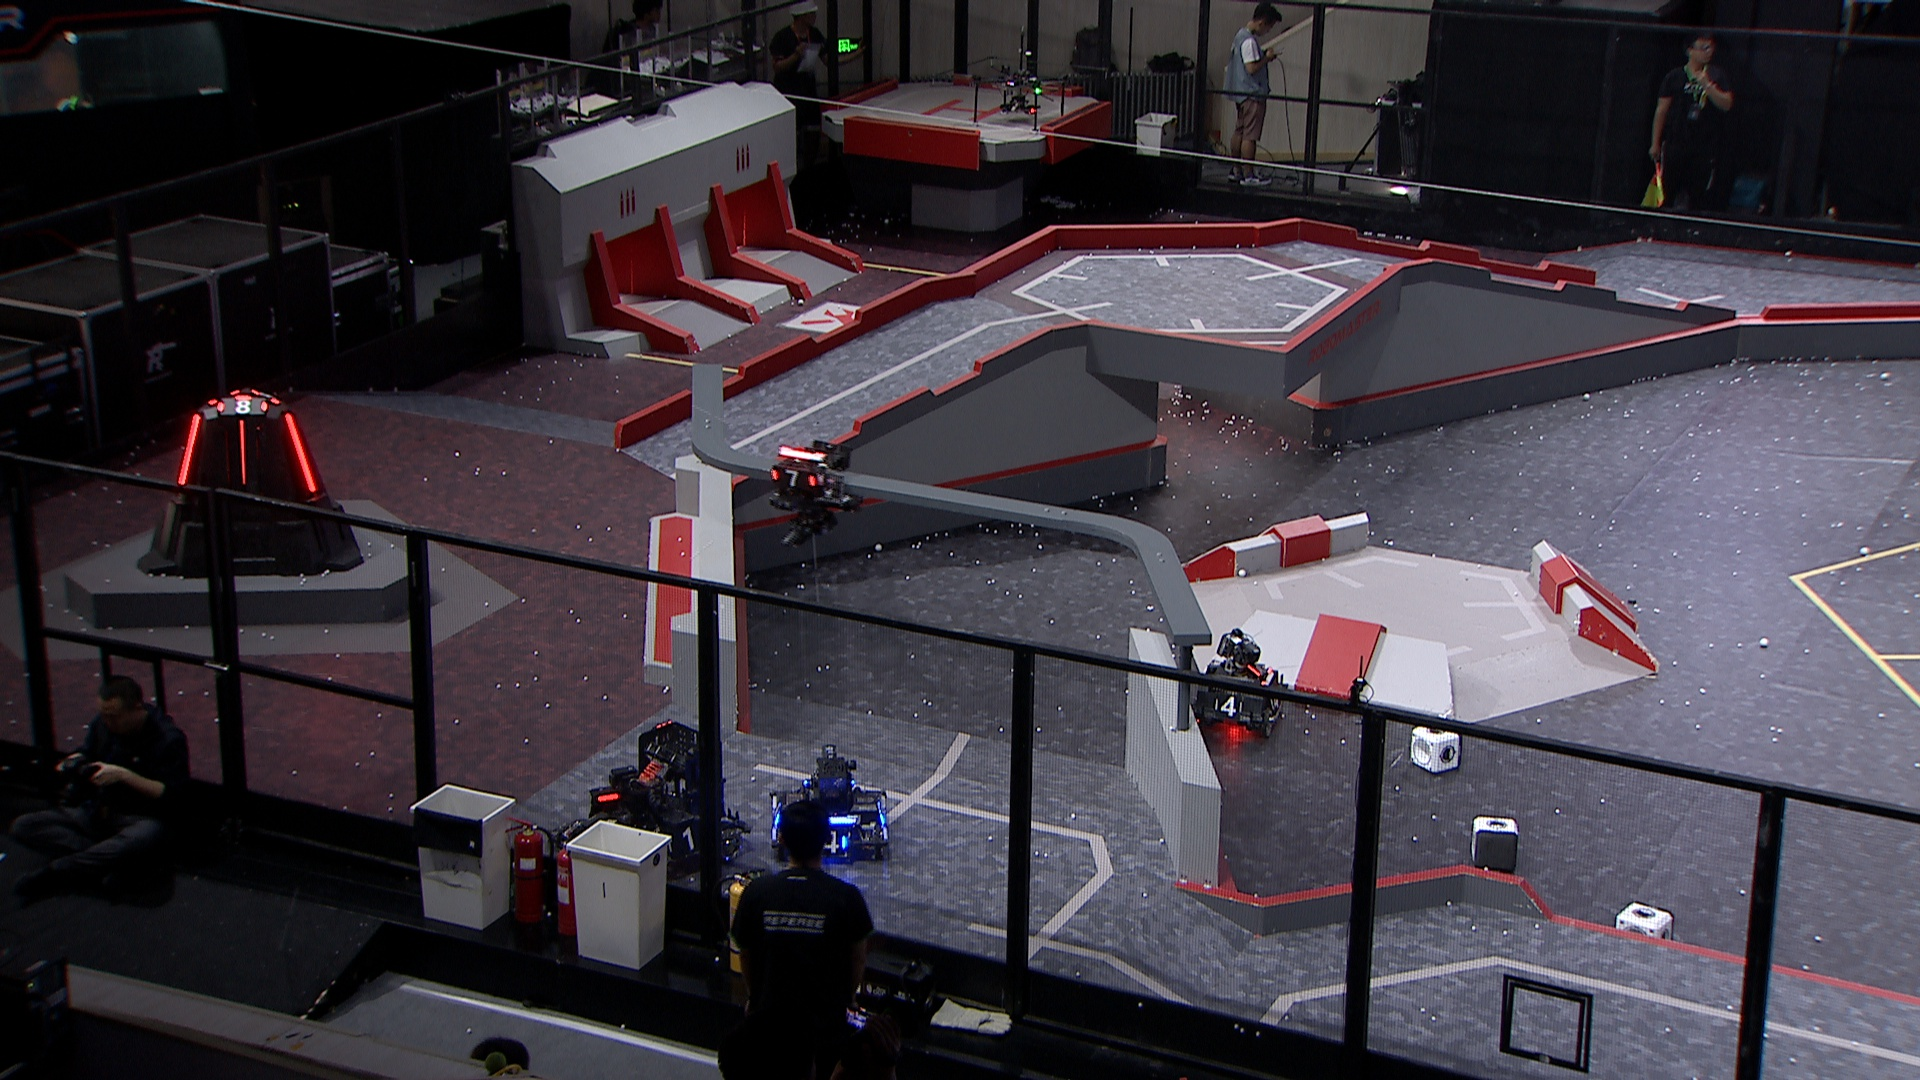armor: (284, 411, 320, 495), (177, 413, 204, 487), (216, 392, 272, 417), (769, 467, 818, 491), (666, 825, 699, 853), (237, 419, 251, 487), (1211, 695, 1245, 719), (825, 827, 851, 856), (771, 800, 785, 827)
base: (133, 390, 371, 579)
car: (556, 719, 754, 889), (770, 746, 893, 865), (1188, 628, 1288, 741)
watcher: (766, 439, 860, 550)
